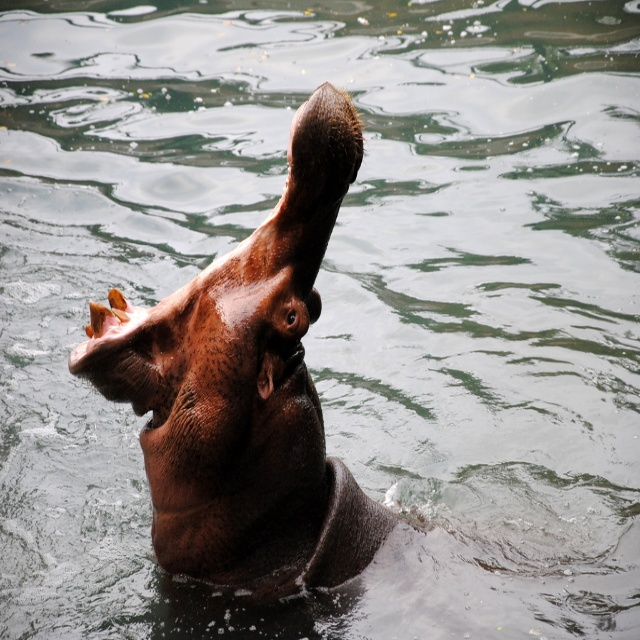Hippopotamus: (68, 81, 401, 604)
